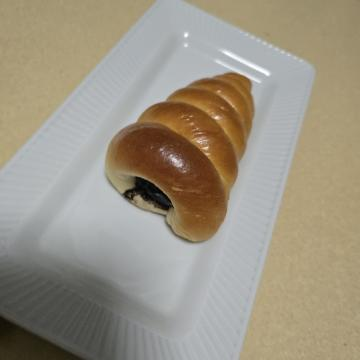cream horn: (60, 88, 259, 282)
